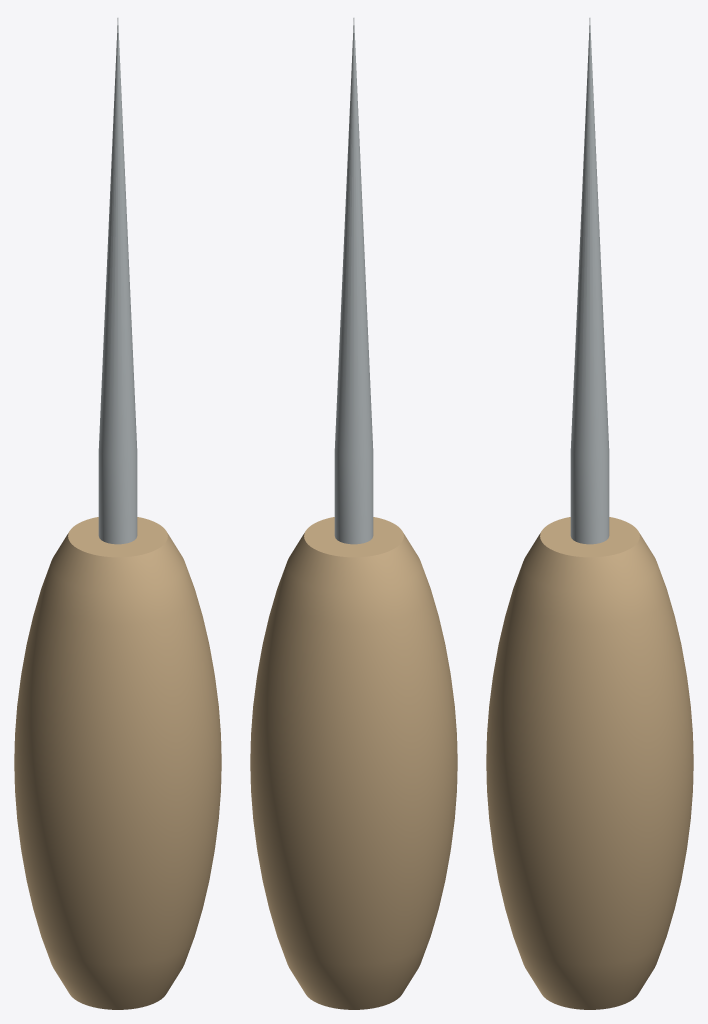
File: bookbinding-and-paper-mill-awl-be748388__30569.glb
The picture shows the model from 3 angles, left to right: view 1: azimuth 30°, elevation 25°; view 2: azimuth 150°, elevation 25°; view 3: azimuth 270°, elevation 25°; orthographic projection.
Visible parts, largest first — view 1: awl; view 2: awl; view 3: awl.
Boxes of the visible parts, left/top/right/bottom form: awl: left=14, top=18, right=221, bottom=1009; awl: left=250, top=18, right=457, bottom=1009; awl: left=486, top=18, right=693, bottom=1009.
Size of the model in its own units: 0.054 by 0.28 by 0.054.
